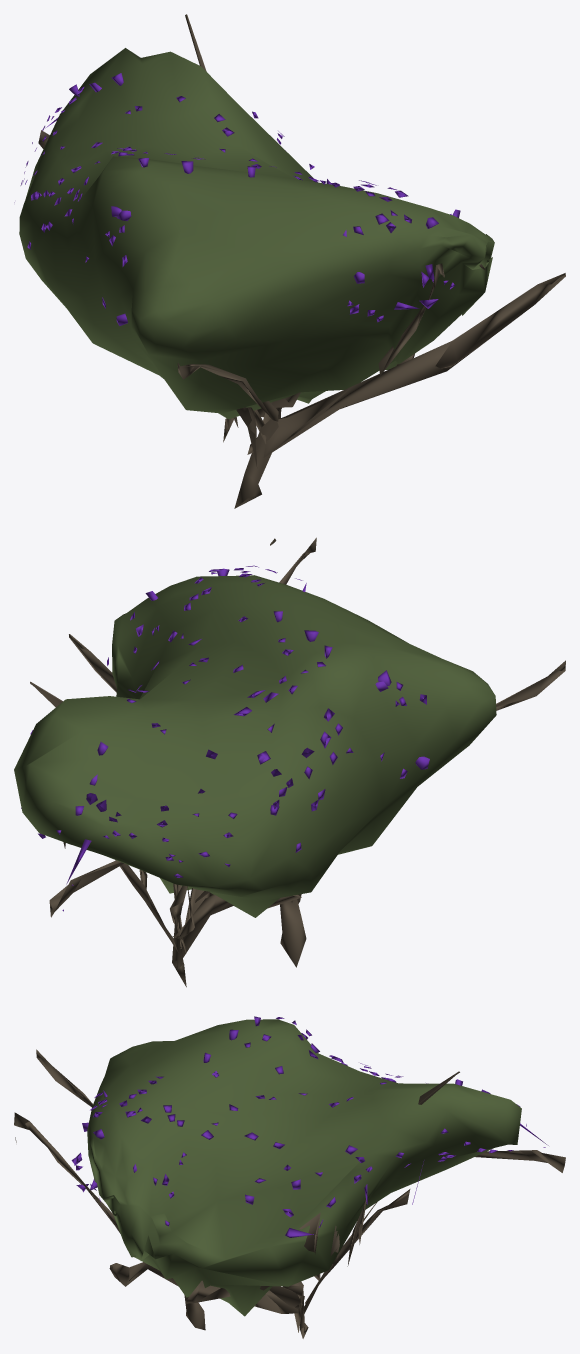
The model's file is VodyankaBushGO1.fbx.
The picture shows the model from 3 angles, top to bottom: view 1: azimuth 30°, elevation 25°; view 2: azimuth 150°, elevation 25°; view 3: azimuth 270°, elevation 25°; orthographic projection. The views are drawn at different scales.
Visible parts, largest first — view 1: Vodyanka Bush, Vodyanka Berries; view 2: Vodyanka Bush, Vodyanka Berries; view 3: Vodyanka Bush, Vodyanka Berries.
Part boxes in pixels (left/top/right/bottom): Vodyanka Bush: left=19, top=14, right=565, bottom=508; Vodyanka Berries: left=14, top=73, right=460, bottom=325; Vodyanka Bush: left=14, top=537, right=565, bottom=987; Vodyanka Berries: left=21, top=565, right=429, bottom=911; Vodyanka Bush: left=14, top=1019, right=565, bottom=1338; Vodyanka Berries: left=71, top=1016, right=548, bottom=1237.
Bounding box in the file's own units: 144 × 115 × 190.
